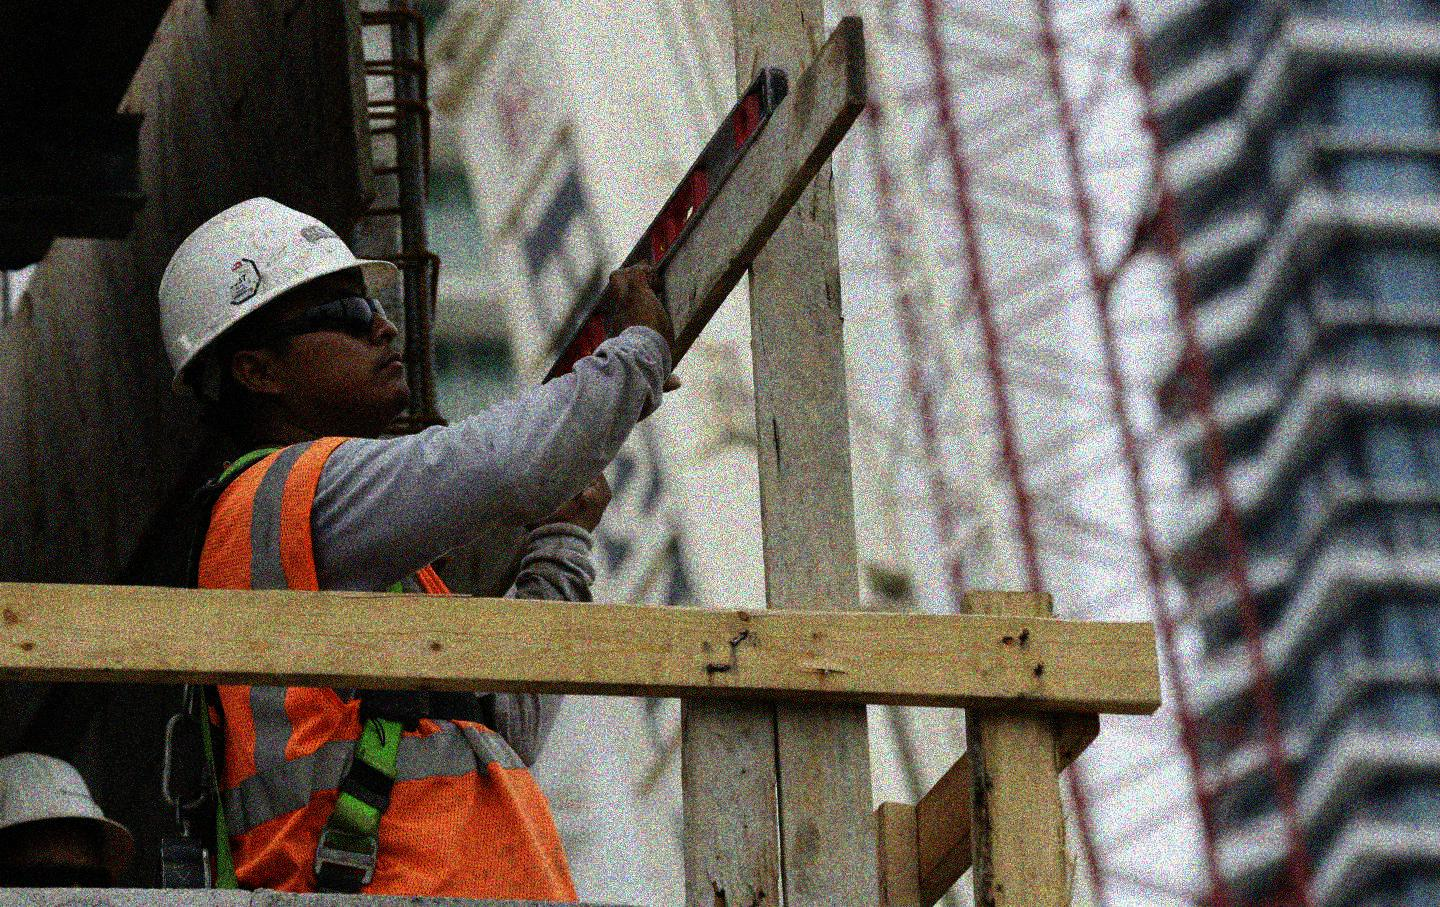helmet: (154, 194, 417, 431)
